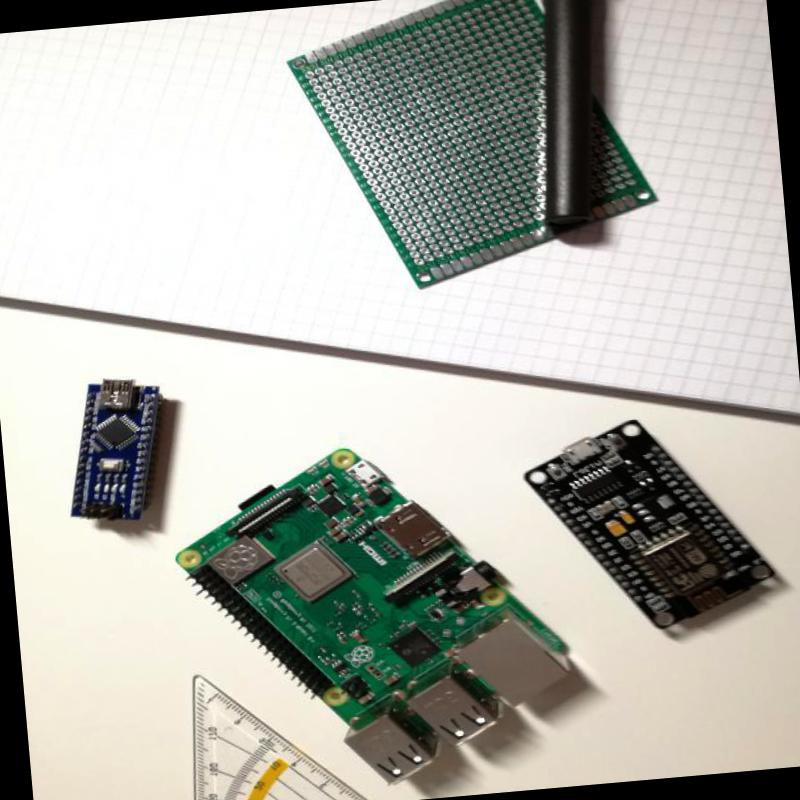Arduino_Nano: (56, 371, 177, 534)
ESP8266: (518, 407, 786, 641)
Raspberry_Pi_3: (165, 421, 583, 798)
